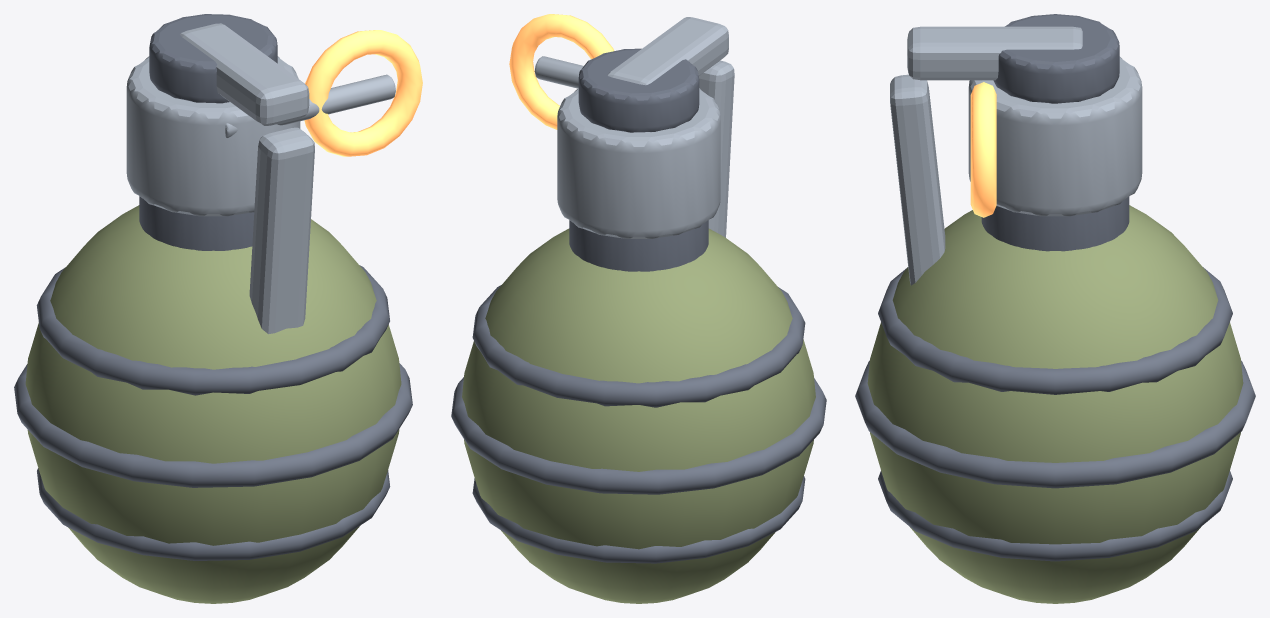
File: grenade.glb
3 renders of one model, left to right at view 1: azimuth 30°, elevation 25°; view 2: azimuth 150°, elevation 25°; view 3: azimuth 270°, elevation 25°, orthographic. The views are drawn at different scales.
Visible parts, largest first — view 1: WPN_Gren_Body.001, WPN_Gren_Fuse.001, WPN_Gren_Band1.001, WPN_Gren_LeverArm.001, WPN_Gren_Band2.001, WPN_Gren_PinRing.001, WPN_Gren_LeverTop.001, WPN_Gren_Band0.001, WPN_Gren_Cap.001, WPN_Gren_Neck.001, WPN_Gren_Pin.001; view 2: WPN_Gren_Body.001, WPN_Gren_Fuse.001, WPN_Gren_Band1.001, WPN_Gren_Band2.001, WPN_Gren_Cap.001, WPN_Gren_Band0.001, WPN_Gren_Neck.001, WPN_Gren_PinRing.001, WPN_Gren_LeverTop.001, WPN_Gren_LeverArm.001, WPN_Gren_Pin.001; view 3: WPN_Gren_Body.001, WPN_Gren_Fuse.001, WPN_Gren_Band1.001, WPN_Gren_Band2.001, WPN_Gren_LeverArm.001, WPN_Gren_Cap.001, WPN_Gren_LeverTop.001, WPN_Gren_Band0.001, WPN_Gren_Neck.001, WPN_Gren_PinRing.001.
Part boxes in pixels (x1,y1,x2,y2): WPN_Gren_Body.001: [25, 205, 401, 603]; WPN_Gren_Fuse.001: [126, 56, 300, 216]; WPN_Gren_Band1.001: [14, 363, 412, 487]; WPN_Gren_LeverArm.001: [249, 127, 314, 334]; WPN_Gren_Band2.001: [36, 265, 389, 395]; WPN_Gren_PinRing.001: [304, 30, 422, 156]; WPN_Gren_LeverTop.001: [180, 23, 309, 125]; WPN_Gren_Band0.001: [37, 468, 390, 560]; WPN_Gren_Cap.001: [149, 14, 277, 103]; WPN_Gren_Neck.001: [139, 196, 254, 250]; WPN_Gren_Pin.001: [225, 74, 395, 137]; WPN_Gren_Body.001: [462, 228, 815, 603]; WPN_Gren_Fuse.001: [557, 88, 720, 238]; WPN_Gren_Band1.001: [451, 377, 826, 494]; WPN_Gren_Band2.001: [472, 285, 805, 407]; WPN_Gren_Cap.001: [578, 48, 699, 132]; WPN_Gren_Band0.001: [472, 476, 805, 563]; WPN_Gren_Neck.001: [569, 220, 708, 271]; WPN_Gren_PinRing.001: [509, 14, 614, 129]; WPN_Gren_LeverTop.001: [607, 17, 728, 85]; WPN_Gren_LeverArm.001: [699, 60, 734, 237]; WPN_Gren_Pin.001: [534, 56, 583, 88]; WPN_Gren_Body.001: [867, 205, 1243, 603]; WPN_Gren_Fuse.001: [968, 56, 1142, 216]; WPN_Gren_Band1.001: [855, 360, 1255, 488]; WPN_Gren_Band2.001: [878, 267, 1232, 394]; WPN_Gren_LeverArm.001: [890, 74, 945, 285]; WPN_Gren_Cap.001: [993, 14, 1119, 103]; WPN_Gren_LeverTop.001: [907, 26, 1082, 80]; WPN_Gren_Band0.001: [878, 471, 1232, 561]; WPN_Gren_Neck.001: [981, 196, 1129, 251]; WPN_Gren_PinRing.001: [970, 82, 996, 217].
Bounding box in the file's own units: 0.123 × 0.188 × 0.123.
